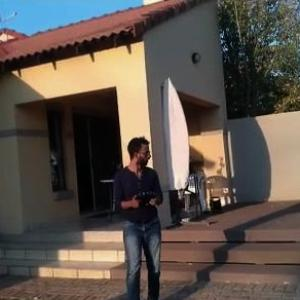follow: (110, 131, 172, 299)
